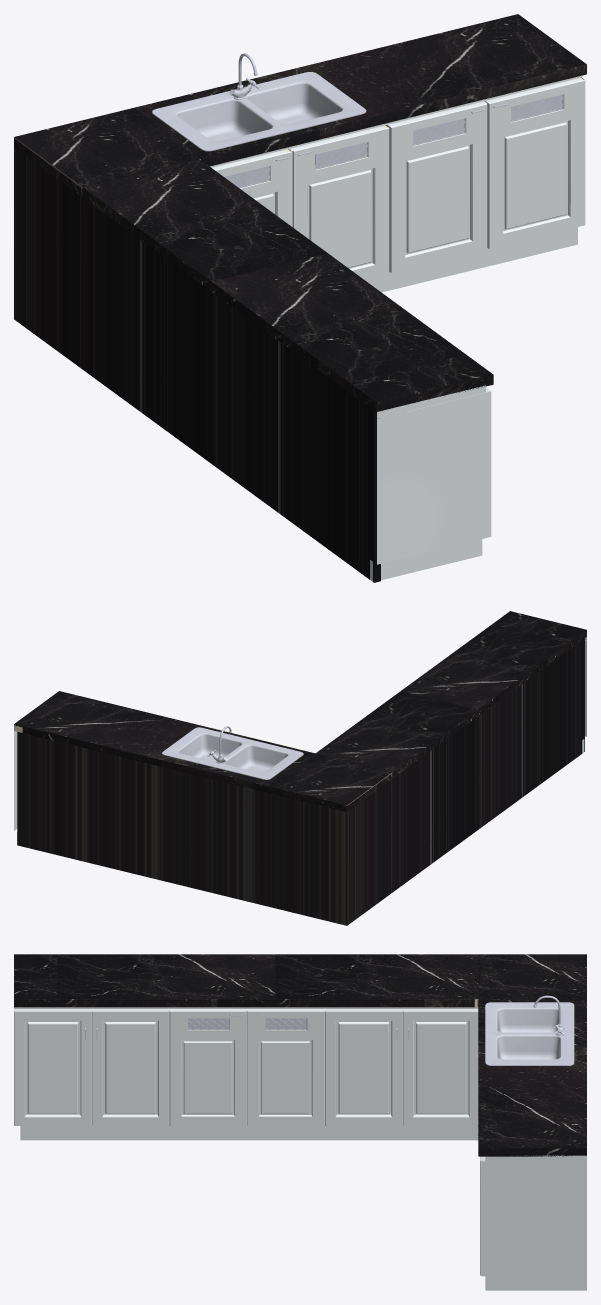
The model's file is aws_KitchenCabinet_02_visual.DAE.
3 renders of one model, top to bottom at view 1: azimuth 30°, elevation 25°; view 2: azimuth 150°, elevation 25°; view 3: azimuth 270°, elevation 25°, orthographic. The views are drawn at different scales.
Parts seen in each view (by area): view 1: aws_KitchenCabinet_01_visual; view 2: aws_KitchenCabinet_01_visual; view 3: aws_KitchenCabinet_01_visual.
Part boxes in pixels (x1,y1,x2,y2): aws_KitchenCabinet_01_visual: [14, 14, 586, 582]; aws_KitchenCabinet_01_visual: [14, 611, 586, 925]; aws_KitchenCabinet_01_visual: [14, 954, 586, 1290].
Bounding box in the file's own units: 258 × 322 × 113.
1 material, 1 textured.
